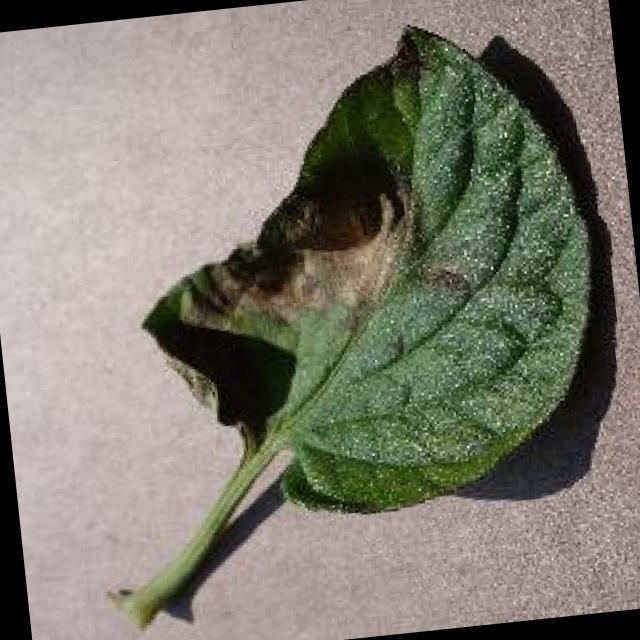Tomato_Late_Blight: (146, 136, 449, 374)
